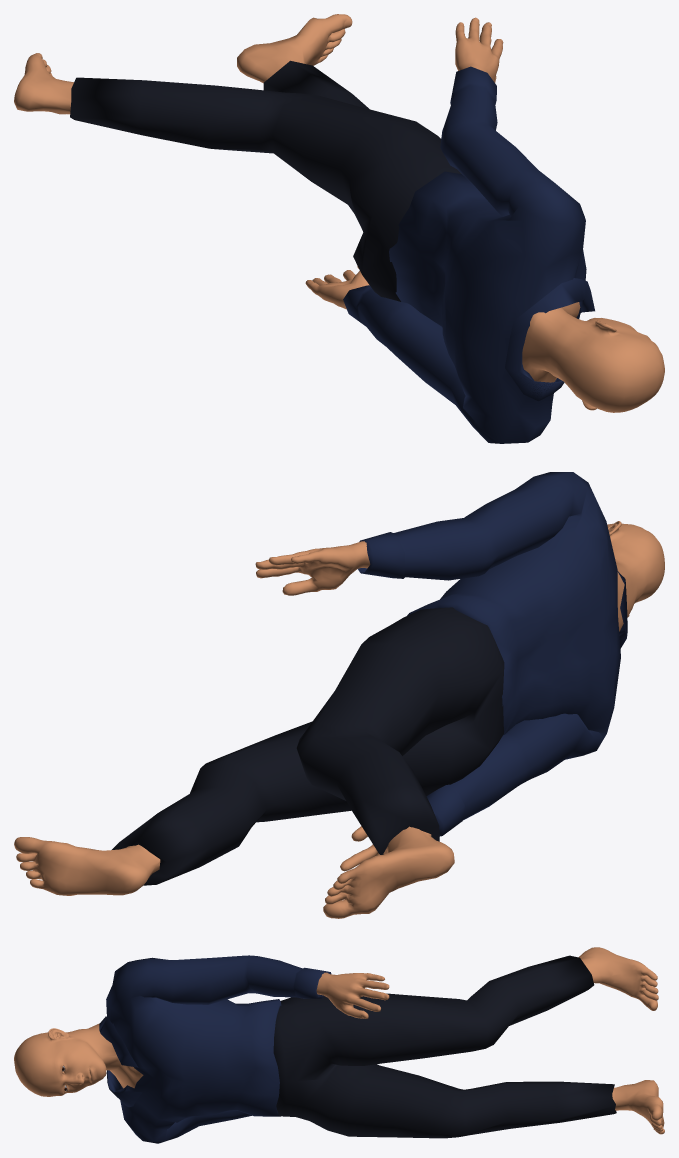
File: walk.obj
3 views of the same model, one above another, from view 1: azimuth 30°, elevation 25°; view 2: azimuth 150°, elevation 25°; view 3: azimuth 270°, elevation 25° (orthographic). The views are drawn at different scales.
Bounding box in the file's own units: 0.8138 × 0.5694 × 1.68.
